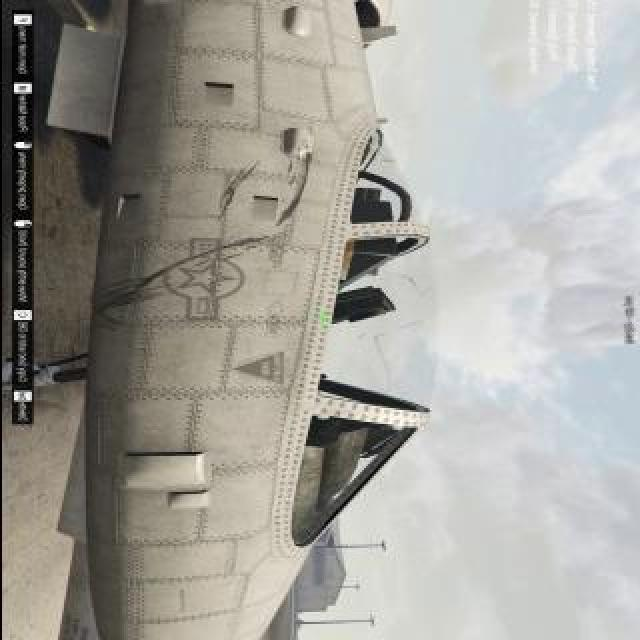dent: (142, 239, 261, 287), (219, 163, 260, 219), (279, 153, 310, 225), (98, 300, 148, 314), (102, 281, 142, 297), (102, 296, 151, 308), (112, 288, 159, 298)
